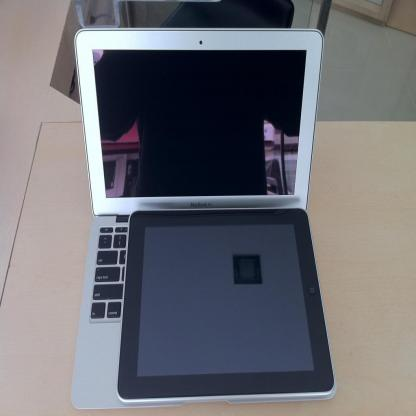board: (72, 28, 336, 410)
